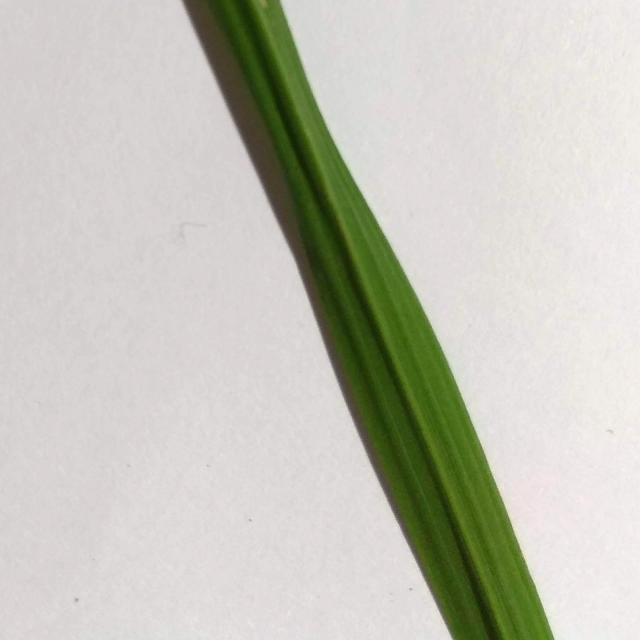healthy: (168, 0, 566, 640)
